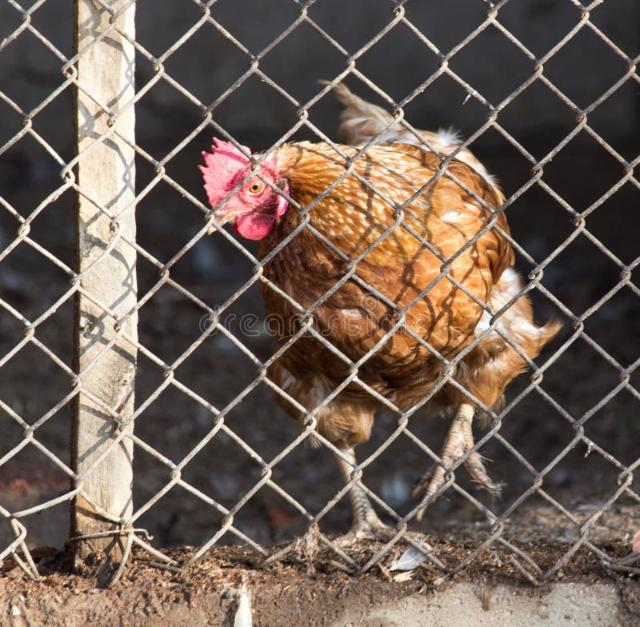Chicken: (200, 76, 548, 552)
